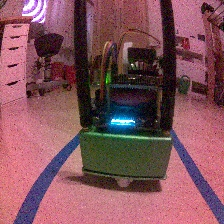rob: (78, 41, 172, 188)
